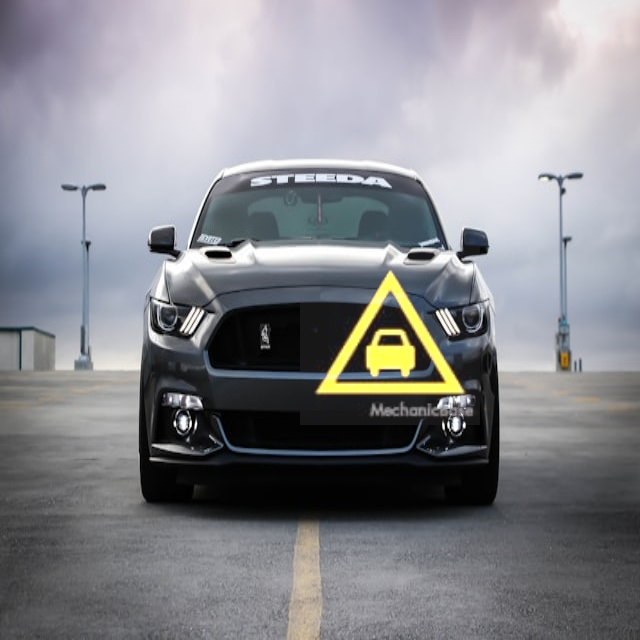symbol: (300, 245, 480, 425)
